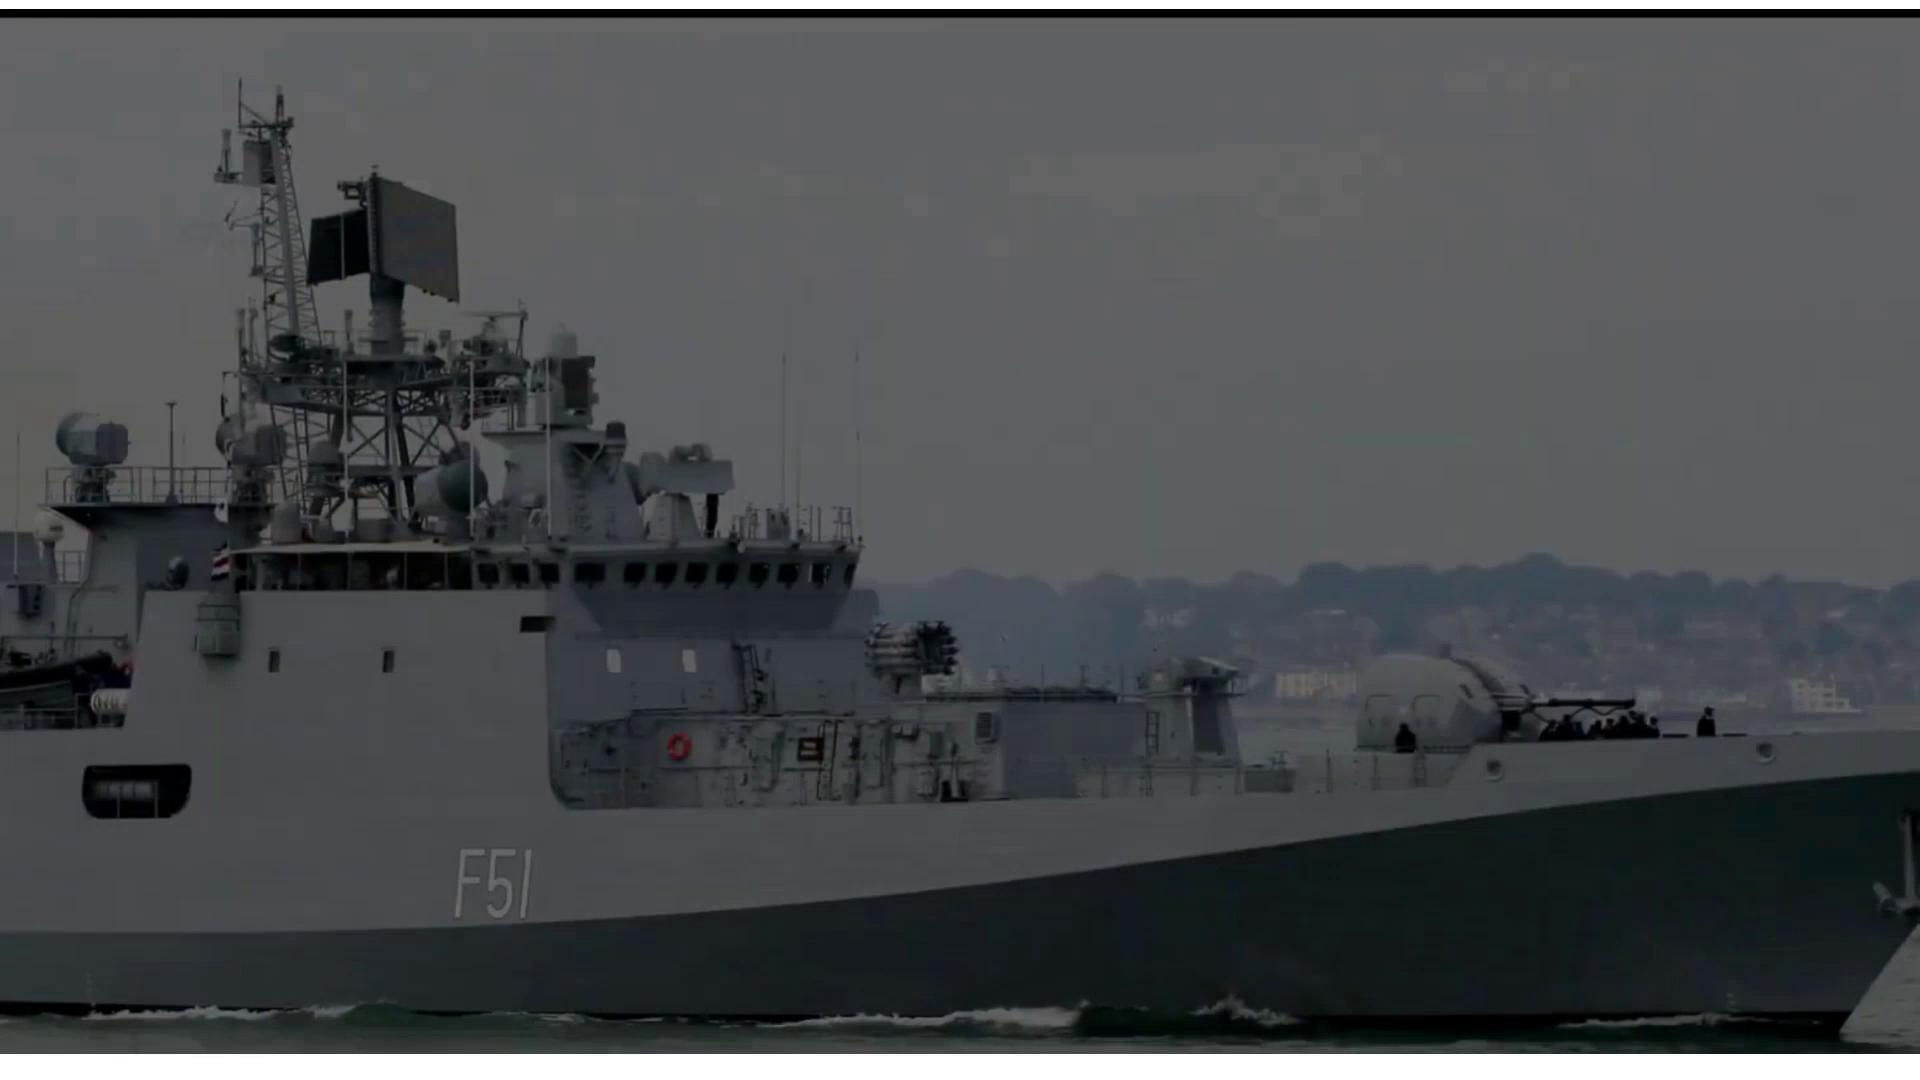OCR: (439, 836, 541, 926)
